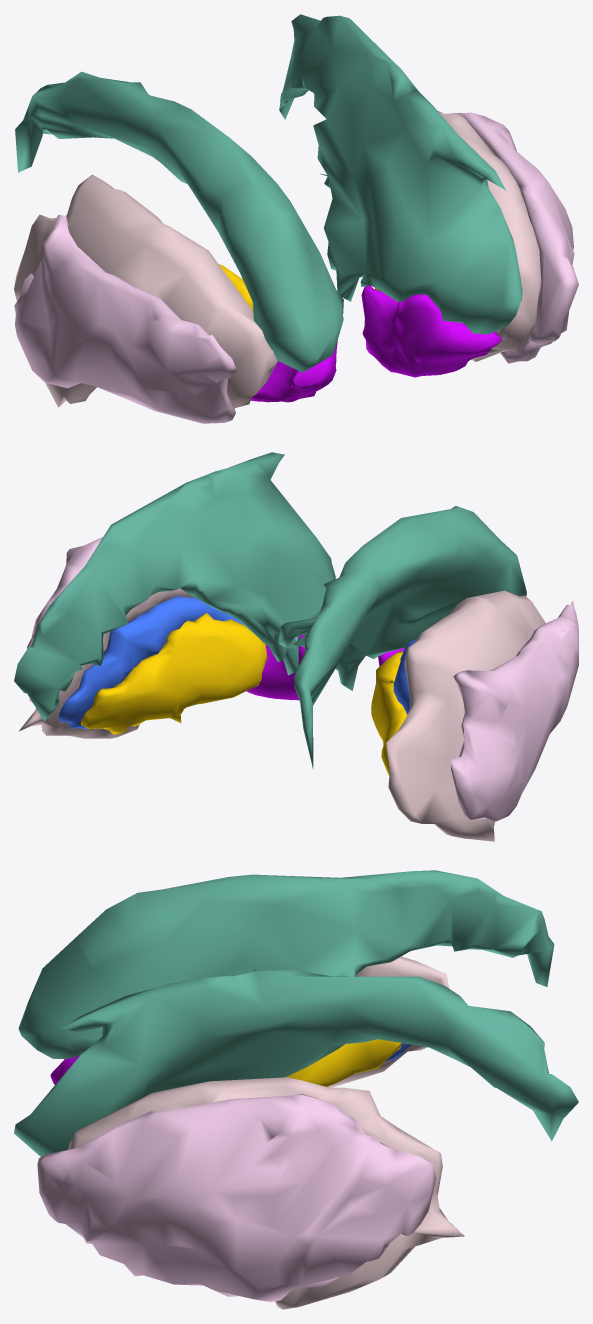
File: basal-ganglia.lod2.glb
The picture shows the model from 3 angles, top to bottom: view 1: azimuth 30°, elevation 25°; view 2: azimuth 150°, elevation 25°; view 3: azimuth 270°, elevation 25°; orthographic projection. The views are drawn at different scales.
Parts seen in each view (by area): view 1: caudate-nucleus-l, caudate-nucleus-r, claustrum-r, putamen-r, claustrum-l, nucleus-accumbens-l, putamen-l, nucleus-accumbens-r; view 2: caudate-nucleus-l, caudate-nucleus-r, putamen-r, claustrum-r, globus-pallidus-pars-interna-l, globus-pallidus-pars-externa-l, putamen-l, globus-pallidus-pars-interna-r, nucleus-accumbens-l, claustrum-l, globus-pallidus-pars-externa-r; view 3: claustrum-l, caudate-nucleus-r, caudate-nucleus-l, putamen-l, globus-pallidus-pars-interna-r, putamen-r.
Part boxes in pixels (x1,y1,x2,y2): caudate-nucleus-l: (279, 14, 522, 334); caudate-nucleus-r: (15, 71, 343, 372); claustrum-r: (14, 215, 236, 423); putamen-r: (14, 174, 277, 408); claustrum-l: (454, 112, 578, 363); nucleus-accumbens-l: (361, 285, 501, 377); putamen-l: (438, 111, 541, 361); nucleus-accumbens-r: (250, 341, 337, 402); caudate-nucleus-l: (14, 452, 335, 720); caudate-nucleus-r: (279, 506, 526, 769); putamen-r: (386, 590, 545, 841); claustrum-r: (450, 601, 578, 821); globus-pallidus-pars-interna-l: (81, 613, 267, 734); globus-pallidus-pars-externa-l: (58, 596, 243, 729); putamen-l: (18, 588, 193, 738); globus-pallidus-pars-interna-r: (371, 651, 407, 775); nucleus-accumbens-l: (246, 634, 305, 700); claustrum-l: (27, 537, 102, 702); globus-pallidus-pars-externa-r: (393, 639, 417, 714); claustrum-l: (37, 1094, 435, 1301); caudate-nucleus-r: (18, 870, 554, 1059); caudate-nucleus-l: (14, 968, 578, 1156); putamen-l: (68, 1077, 464, 1309); globus-pallidus-pars-interna-r: (286, 1039, 401, 1086); putamen-r: (328, 956, 449, 1087).
Size of the model in its own units: 0.0737 by 0.0398 by 0.07.
